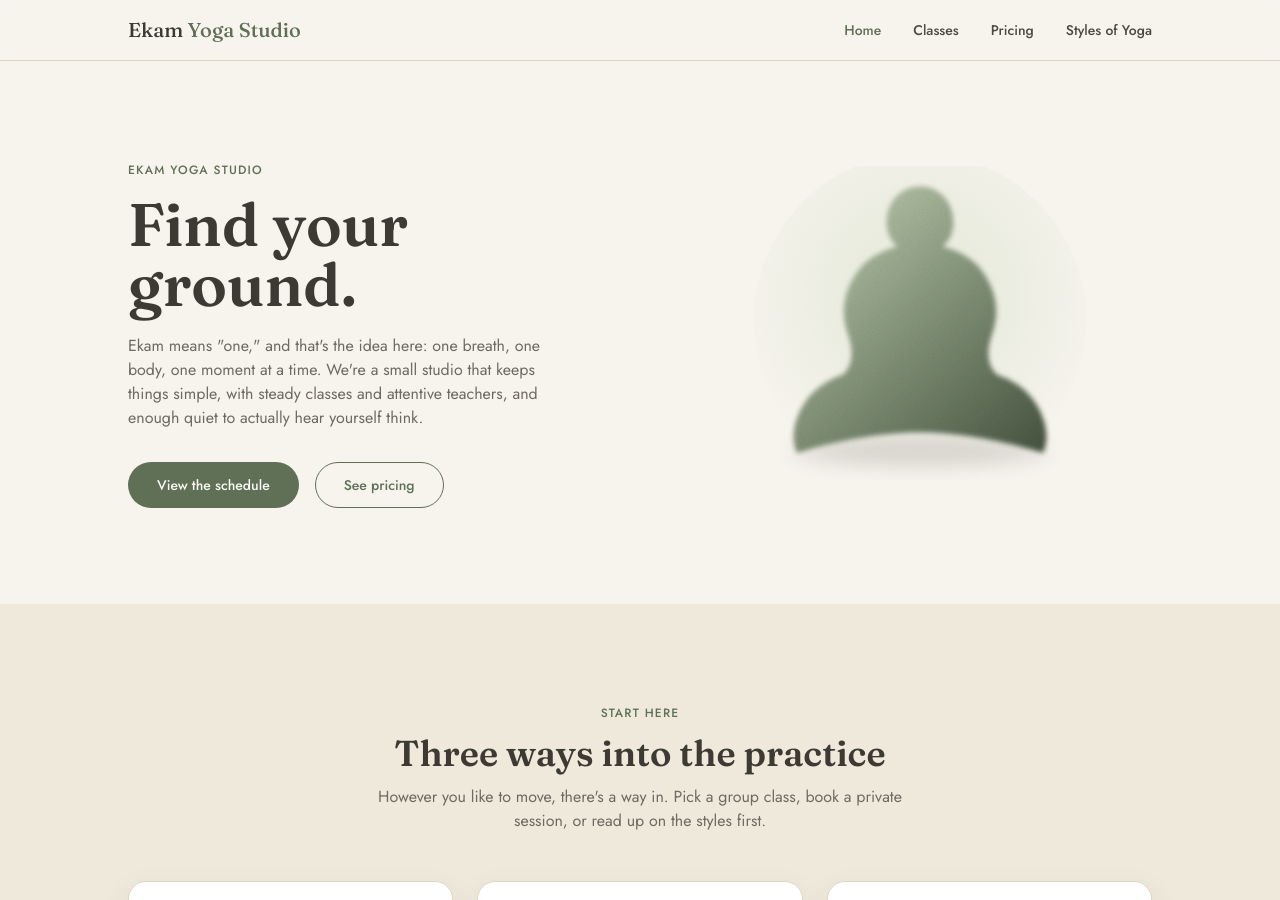
Test: Cross-page user flows › lets a visitor go from the home page CTA to reserving a group class
Step 1. Click the link "View the schedule" → (213, 485), box x1=128 y1=462 x2=299 y2=508
(page scrolled)
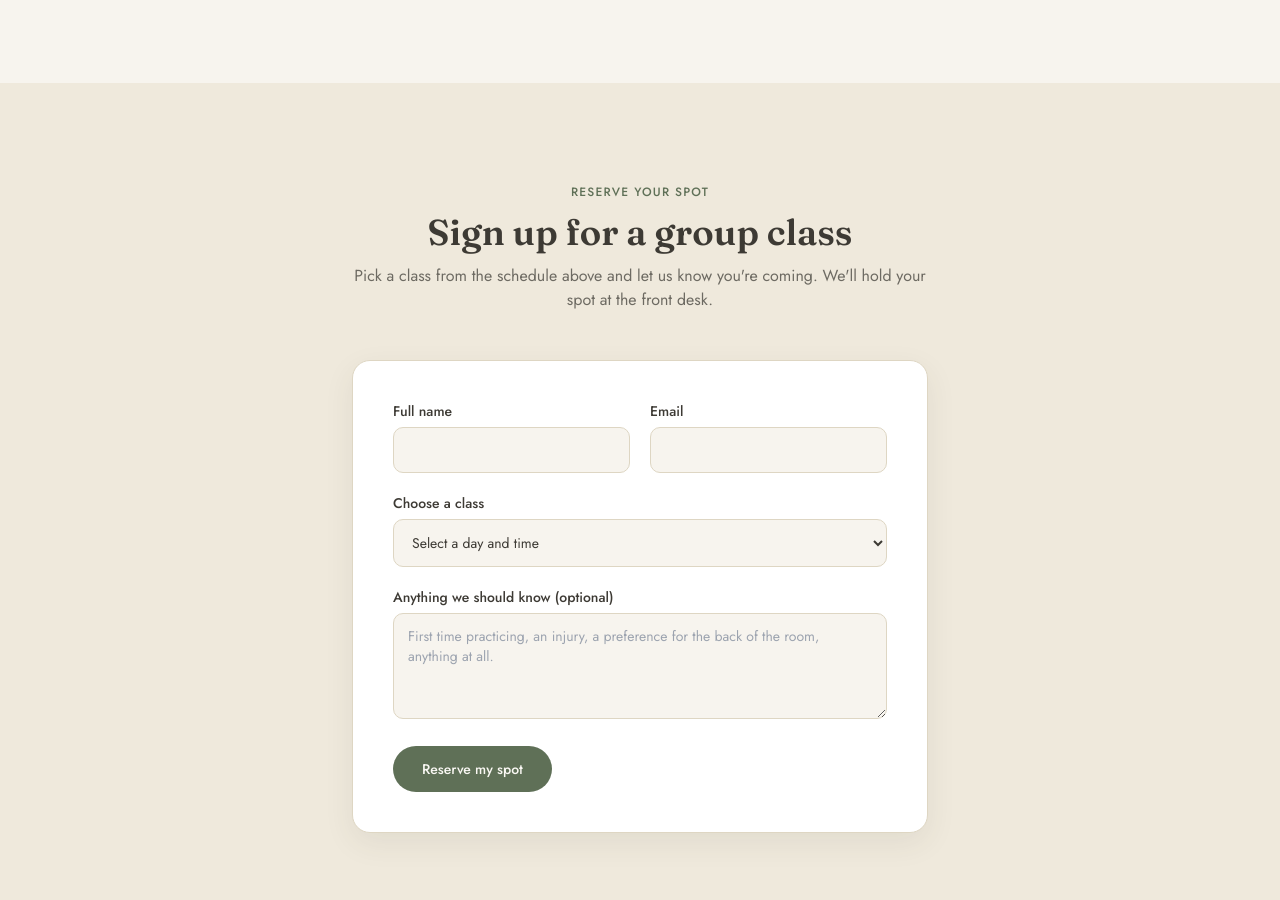
Step 2. Type "Jordan Reyes" into the field labelled "Full name" → (512, 450), box x1=393 y1=427 x2=630 y2=473
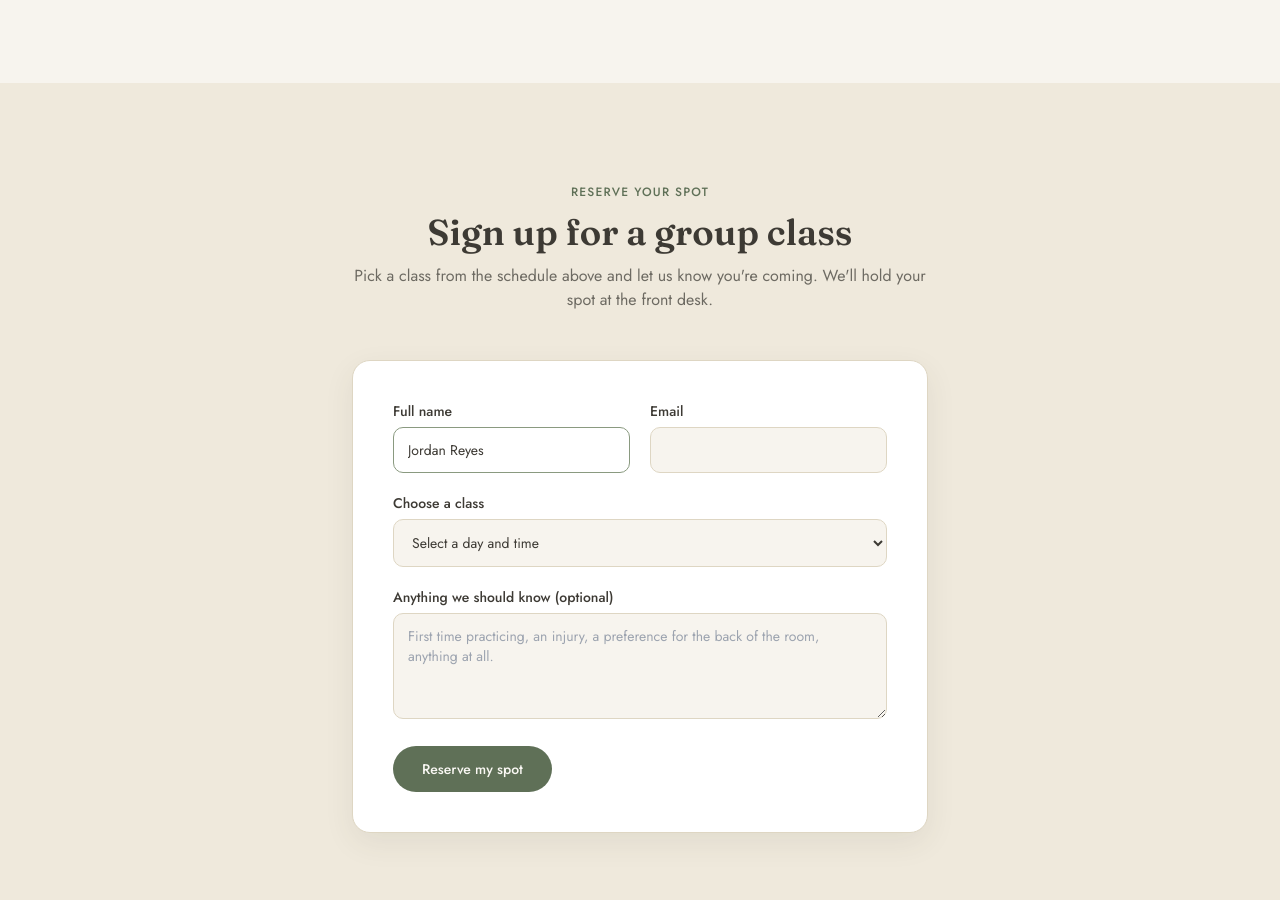
Step 3. Type "jordan@example.com" into the field labelled "Email" → (768, 450), box x1=650 y1=427 x2=887 y2=473
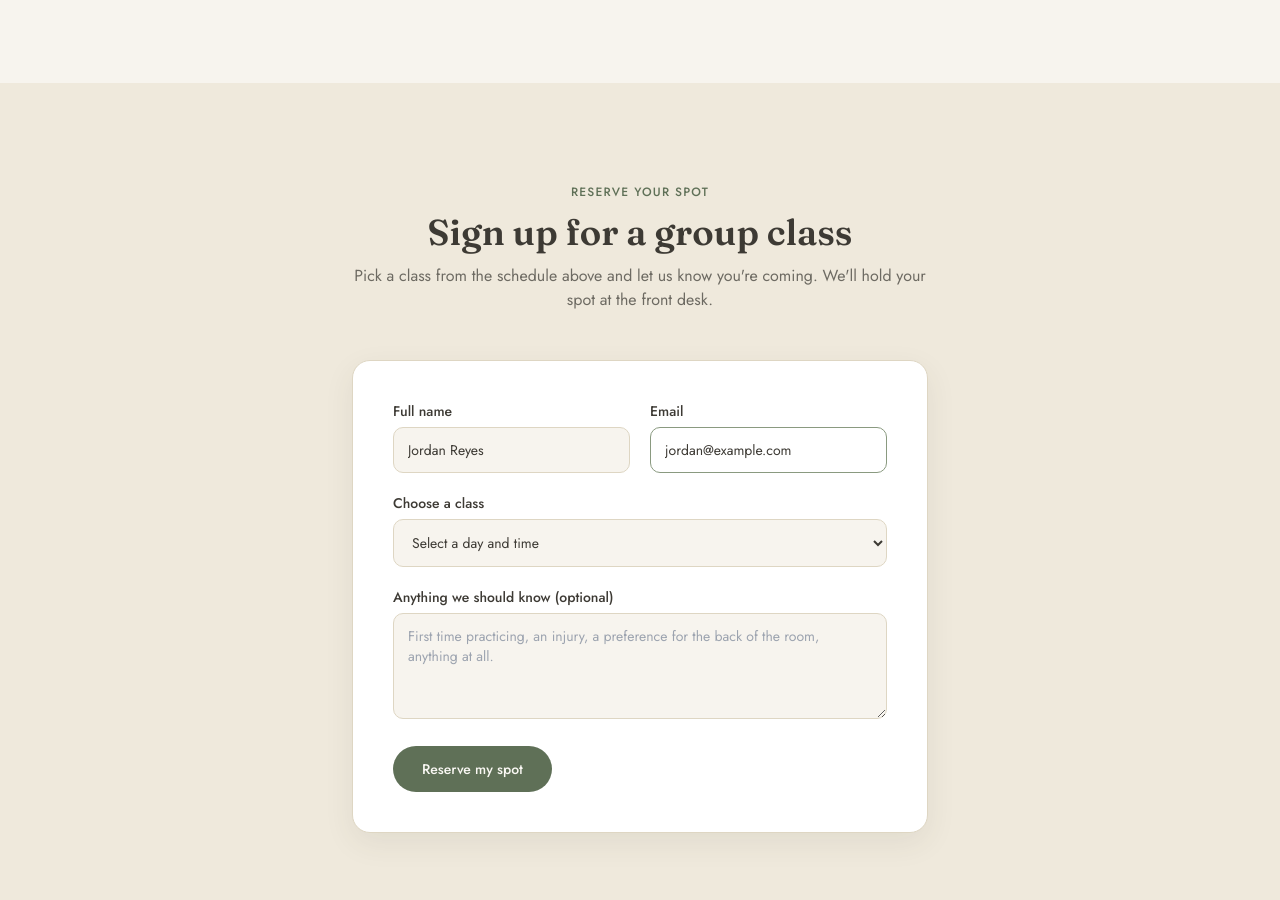
Step 4. Select "Monday 7:00 – 8:00 AM, Vinyasa Flow (Maya Torres)" in the dropdown labelled "Choose a class" → (640, 543), box x1=393 y1=519 x2=887 y2=567
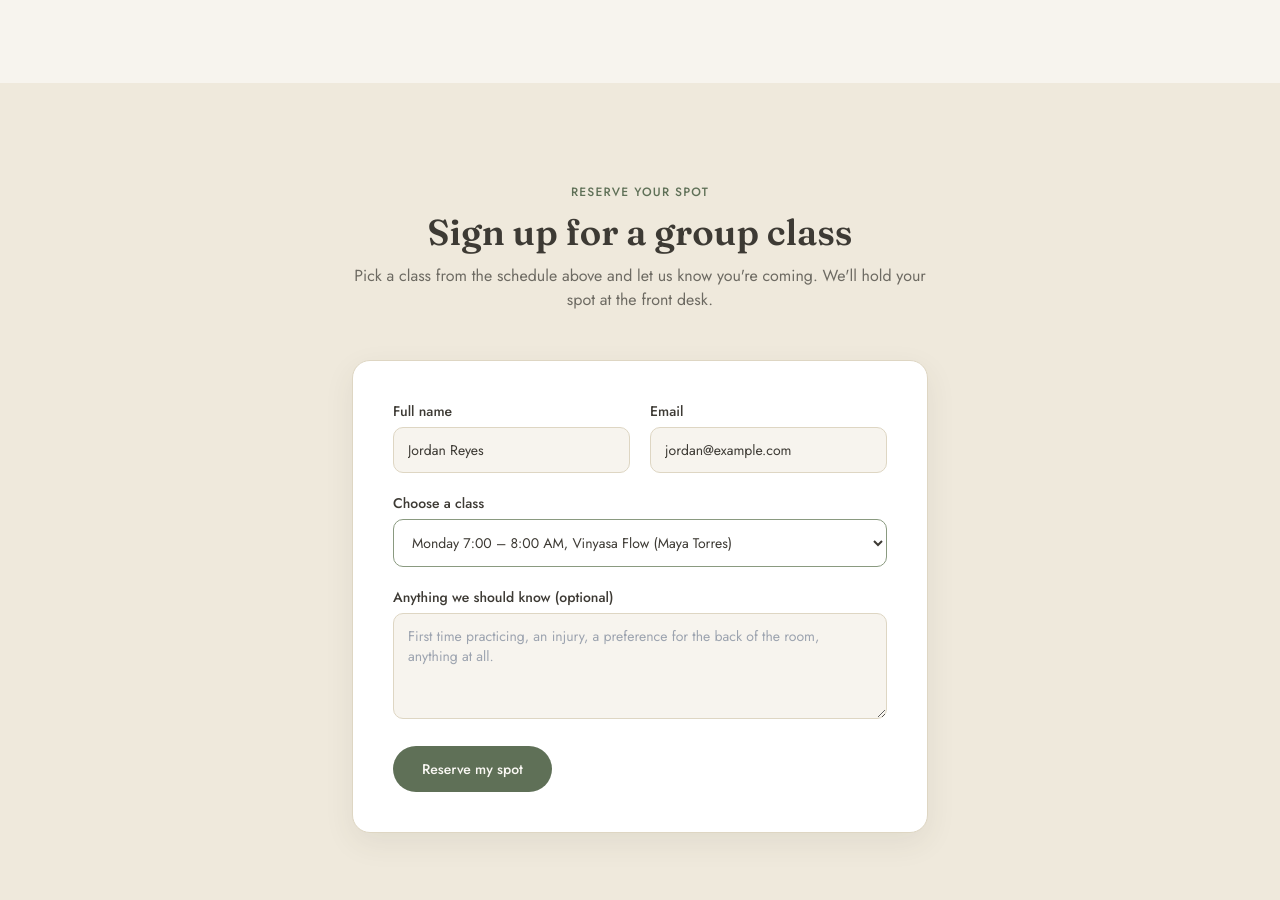
Step 5. Click the button "Reserve my spot" → (472, 769), box x1=393 y1=746 x2=552 y2=792
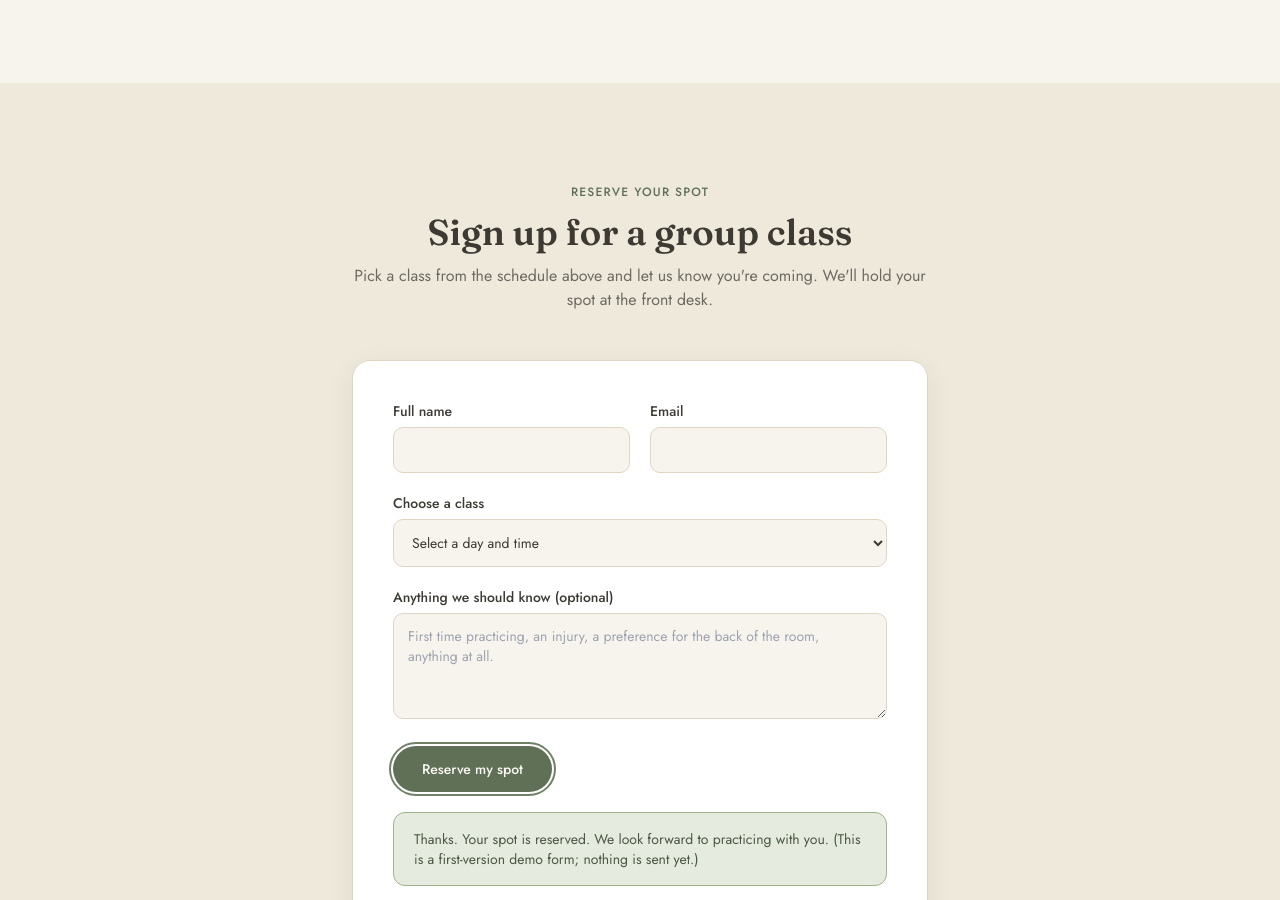
expect the message shows "spot is reserved": met, box x1=414 y1=829 x2=861 y2=869
